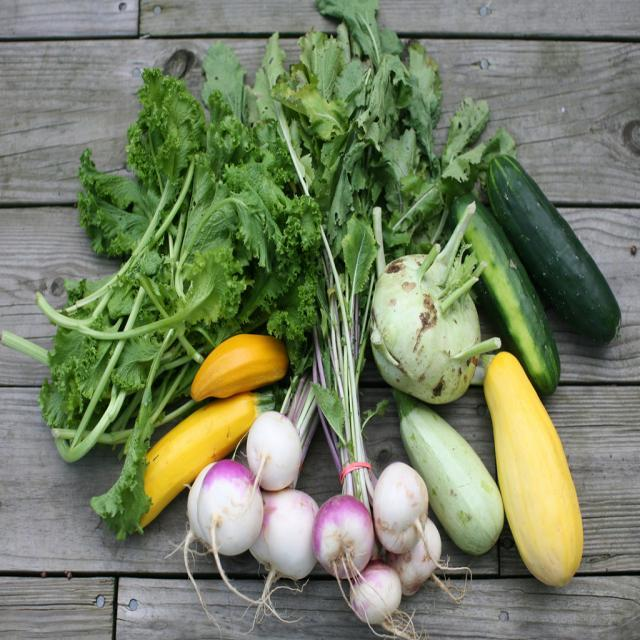Zucchini: (499, 149, 627, 357), (122, 389, 282, 537), (450, 194, 556, 389), (186, 332, 290, 411)
